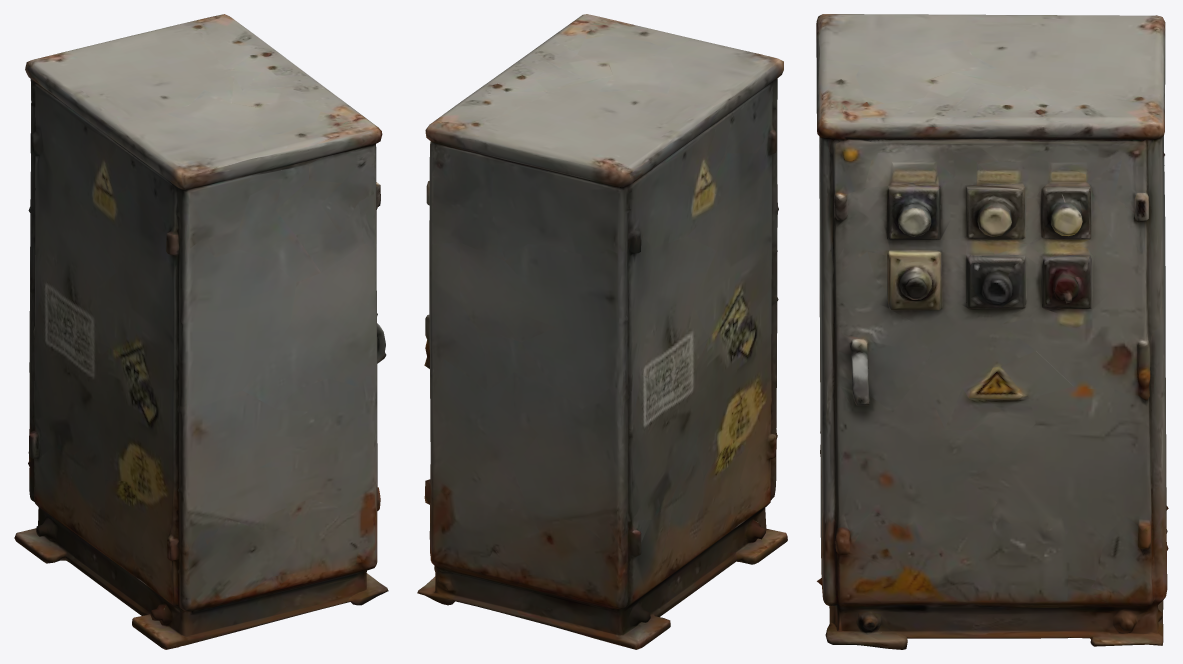
File: console.glb
3 views of the same model, side by side, from view 1: azimuth 30°, elevation 25°; view 2: azimuth 150°, elevation 25°; view 3: azimuth 270°, elevation 25° (orthographic). The views are drawn at different scales.
Visible parts, largest first — view 1: tripo_node_f266077f-17cf-499b-a364-7b0b228d46aa; view 2: tripo_node_f266077f-17cf-499b-a364-7b0b228d46aa; view 3: tripo_node_f266077f-17cf-499b-a364-7b0b228d46aa.
Boxes of the visible parts, x1=… form: tripo_node_f266077f-17cf-499b-a364-7b0b228d46aa: x1=14, y1=14, x2=388, y2=649; tripo_node_f266077f-17cf-499b-a364-7b0b228d46aa: x1=417, y1=14, x2=787, y2=649; tripo_node_f266077f-17cf-499b-a364-7b0b228d46aa: x1=816, y1=14, x2=1168, y2=649.
Bounding box in the file's own units: 0.5233 × 1 × 0.6048.
1 material, 1 textured.
